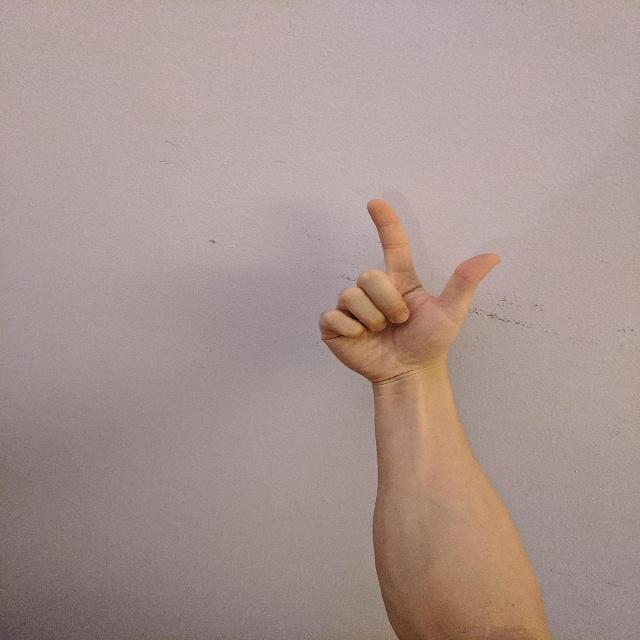L: (312, 195, 510, 383)
